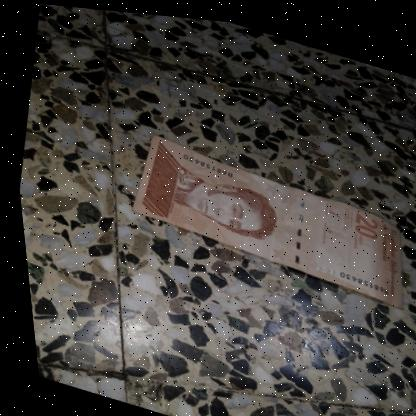twenty-front-vef: (116, 124, 416, 303)
